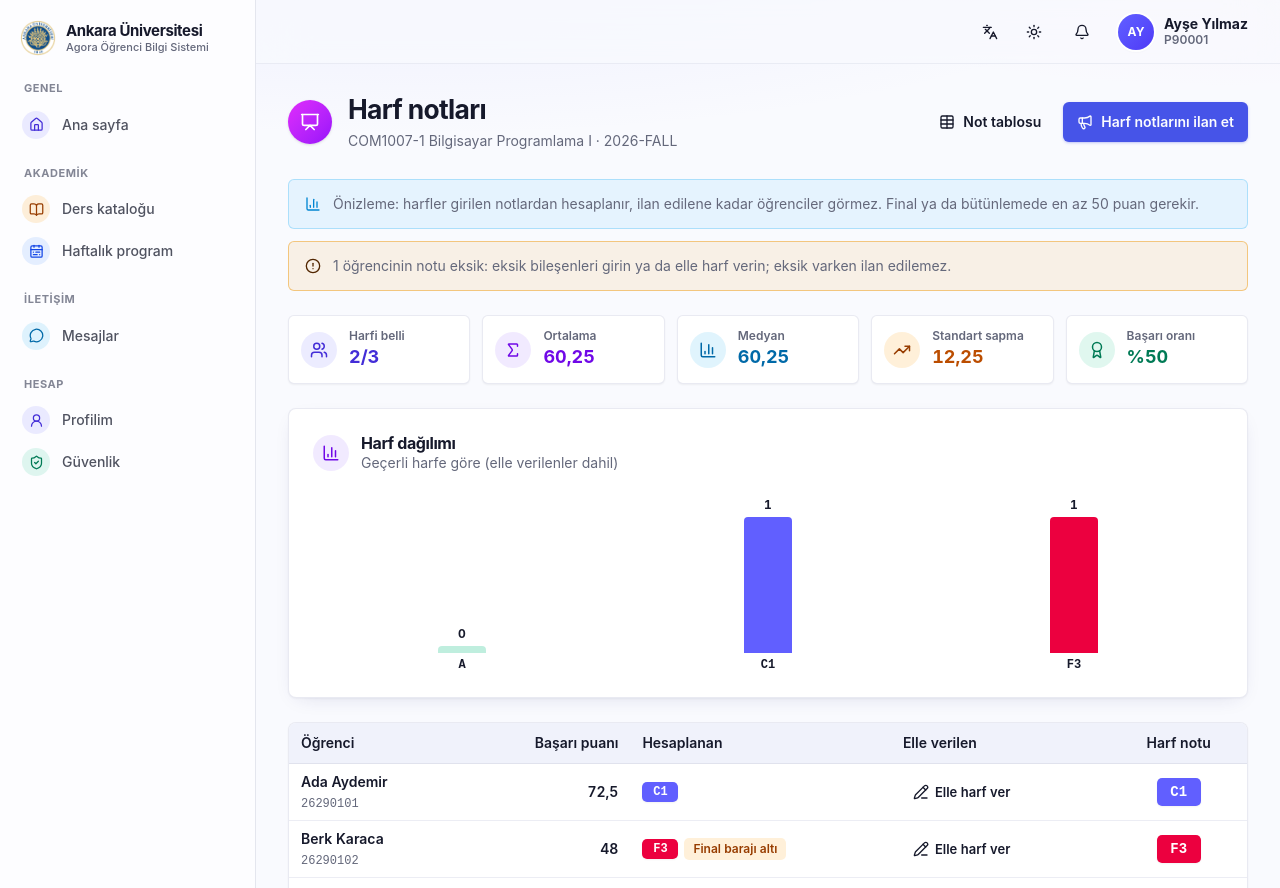
Test: harf notları › ilan onayla yapılır
Click the button "Harf notlarını ilan et": (1156, 122) [1063,102,1248,142]
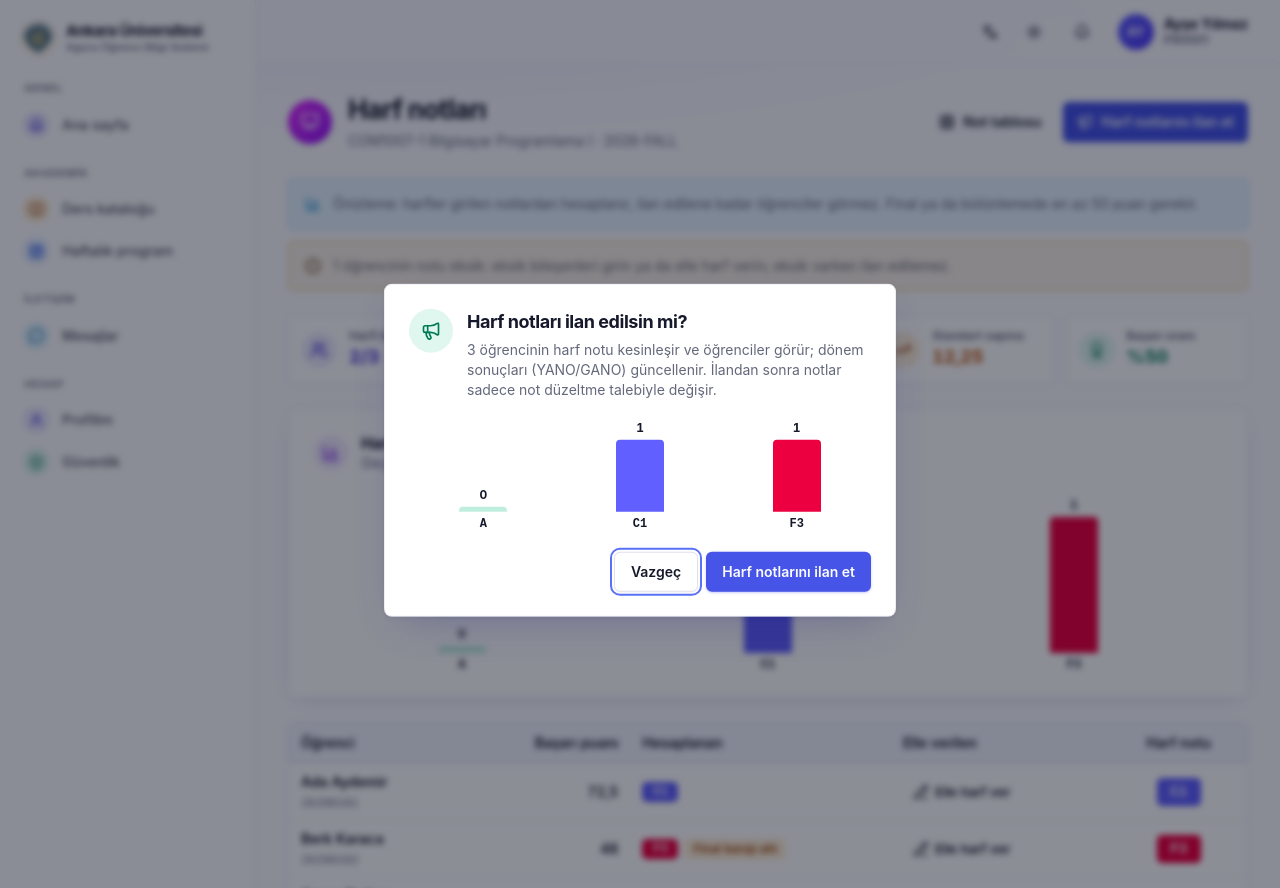
Expected: the text "3 öğrencinin harf notu kesinleşir" is shown, [467,340,864,397]
Click the button "Harf notlarını ilan et": (789, 571) [706,551,871,591]
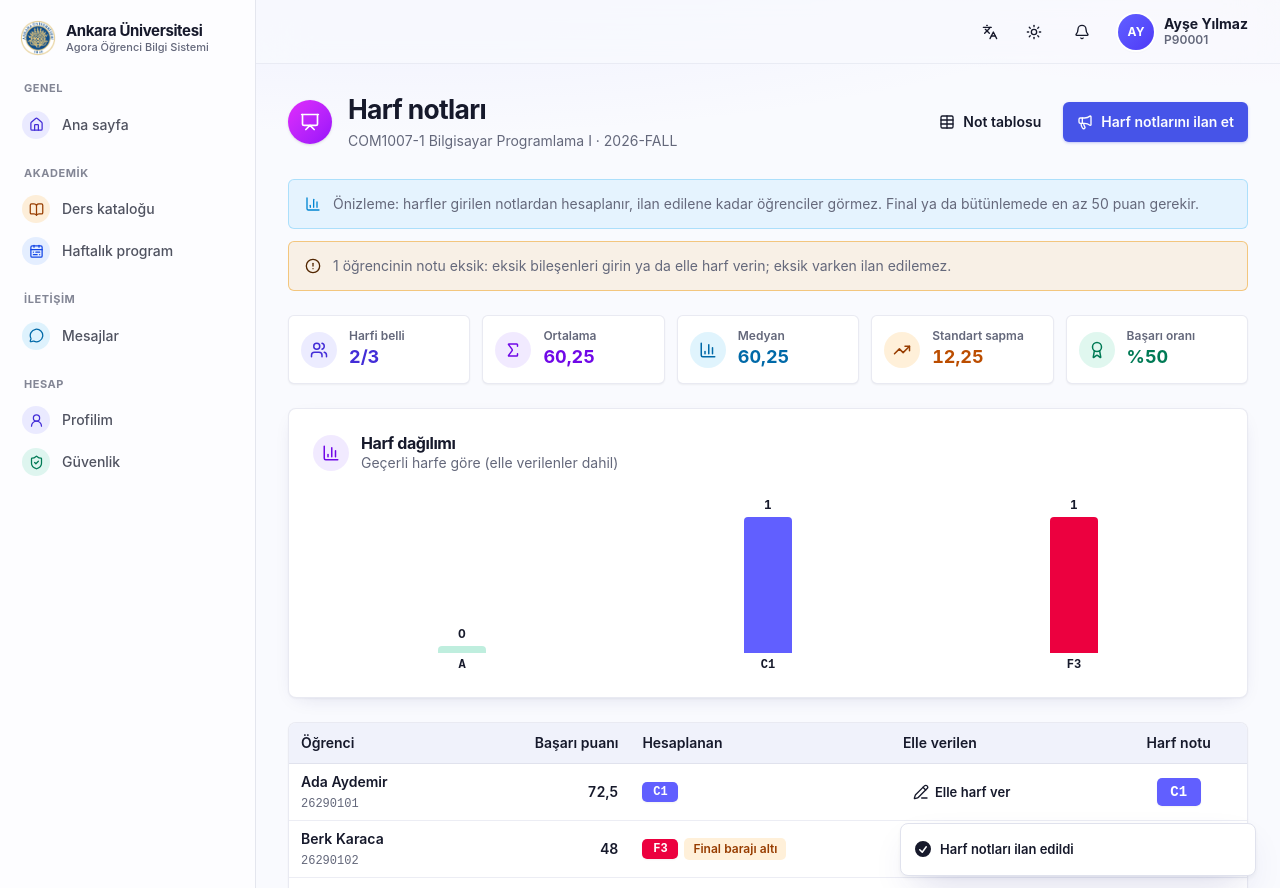
Expected: the text "Harf notları ilan edildi" is shown, [940,840,1074,859]
